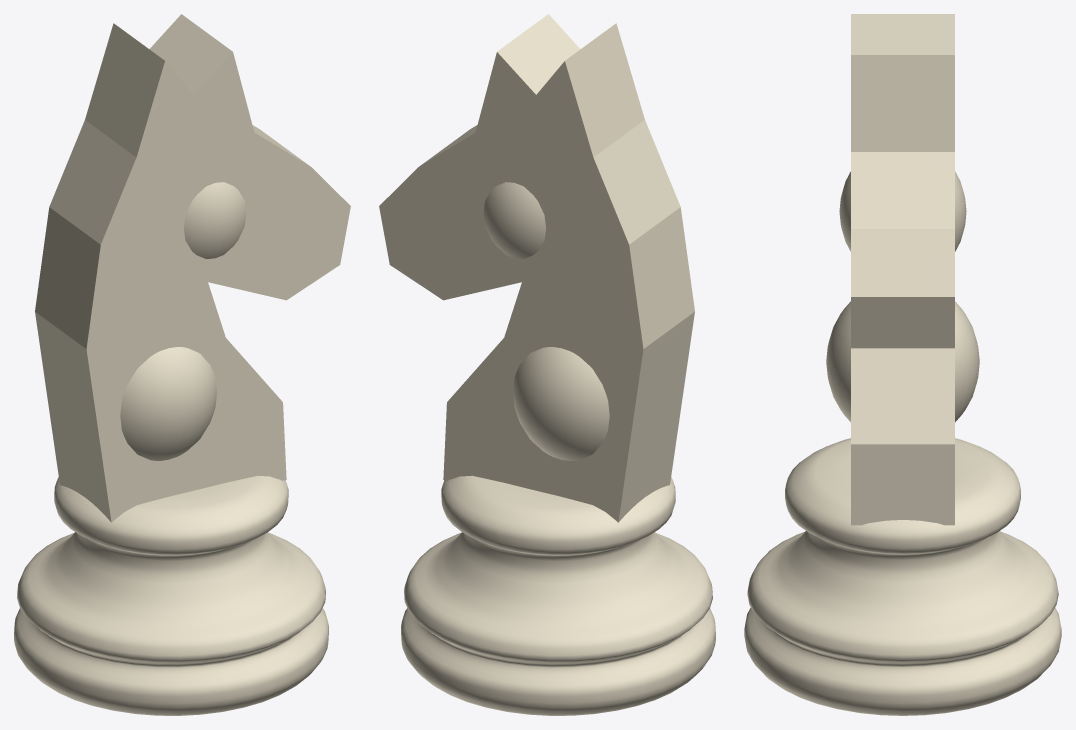
File: white_knight.glb
3 views of the same model, side by side, from view 1: azimuth 30°, elevation 25°; view 2: azimuth 150°, elevation 25°; view 3: azimuth 270°, elevation 25° (orthographic).
Parts seen in each view (by area): view 1: white knight; view 2: white knight; view 3: white knight.
Boxes of the visible parts, left/top/right/bottom form: white knight: left=14, top=14, right=350, bottom=715; white knight: left=379, top=14, right=715, bottom=715; white knight: left=744, top=14, right=1061, bottom=715.
Size of the model in its own units: 0.0406 by 0.084 by 0.0382.
